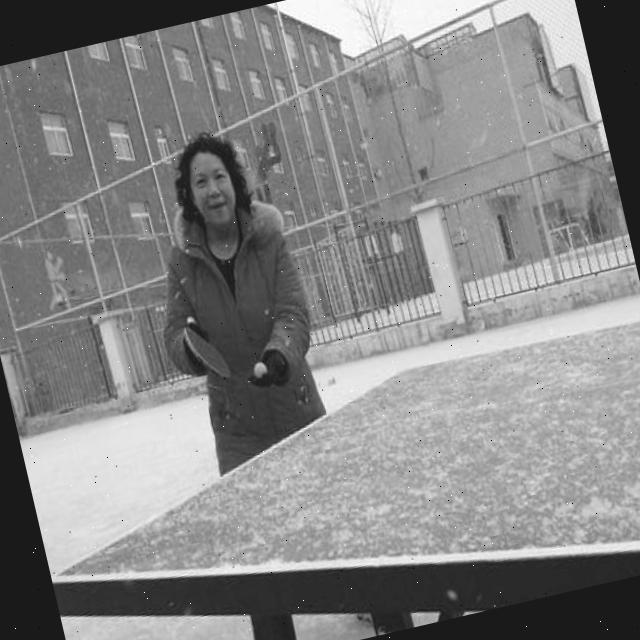ping-pong-ball: (251, 360, 270, 380)
